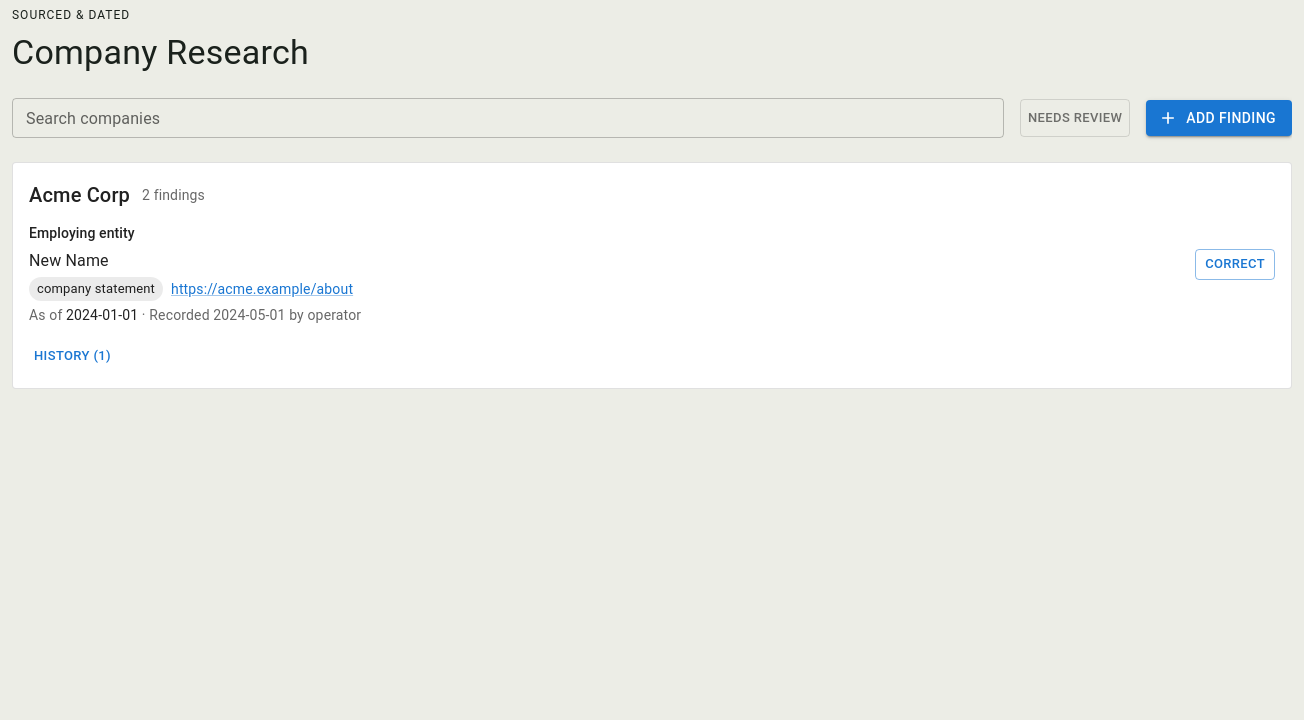
CompanyResearchPage › shows the current value with superseded history collapsed
Expected: the text "New Name" is shown, [29,251,109,270]
Expected: the text "Old Name" is not shown
Click the button "History (1)" at (72, 356), box [29,341,116,372]
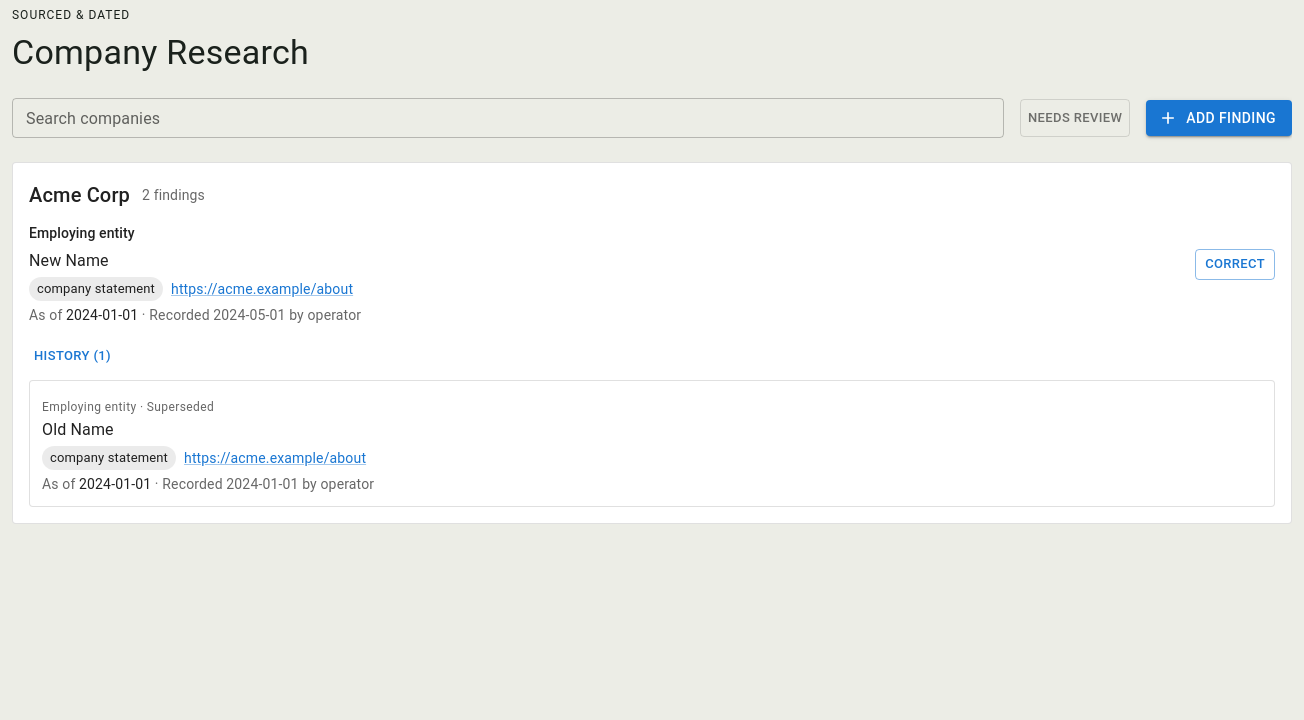
Expected: the text "Old Name" is shown, [42,420,114,438]
